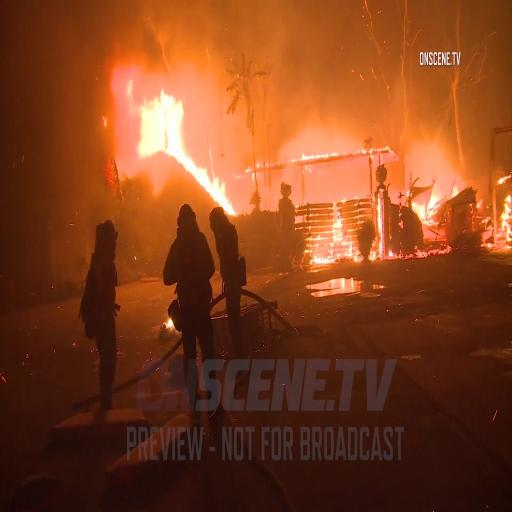fire: (178, 145, 237, 210), (134, 86, 185, 160), (307, 200, 364, 264), (497, 192, 512, 251)
